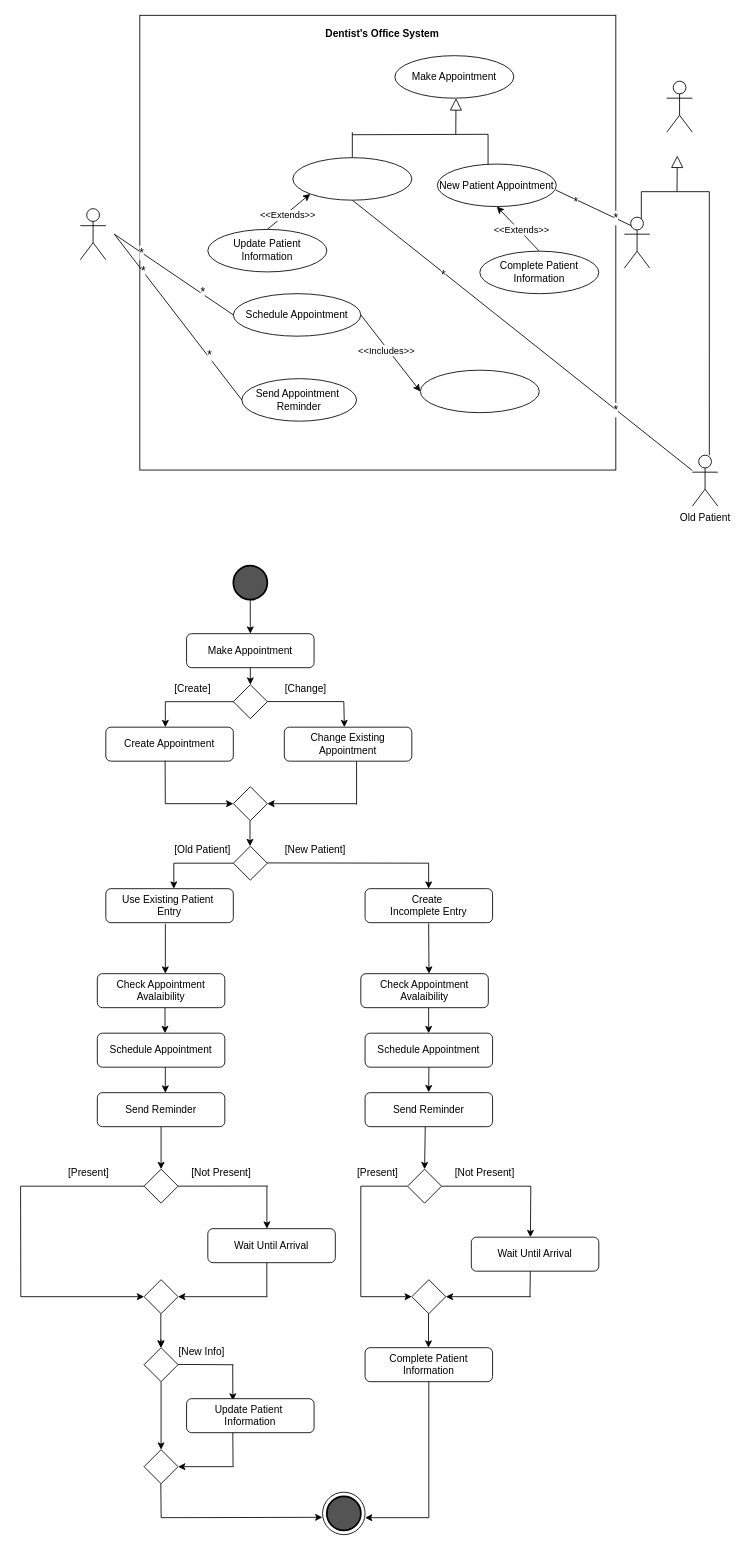
Image size: 745x1550. Some labels were removed from this diagram. Each missing label, with the centre of its shape:
"Check Availability" goes at [479,391].
"New Patient" goes at [636,242].
"Old Patient Appointment" goes at [352,178].
"Patient" goes at [679,106].
"Receptionist" goes at [92,234].
